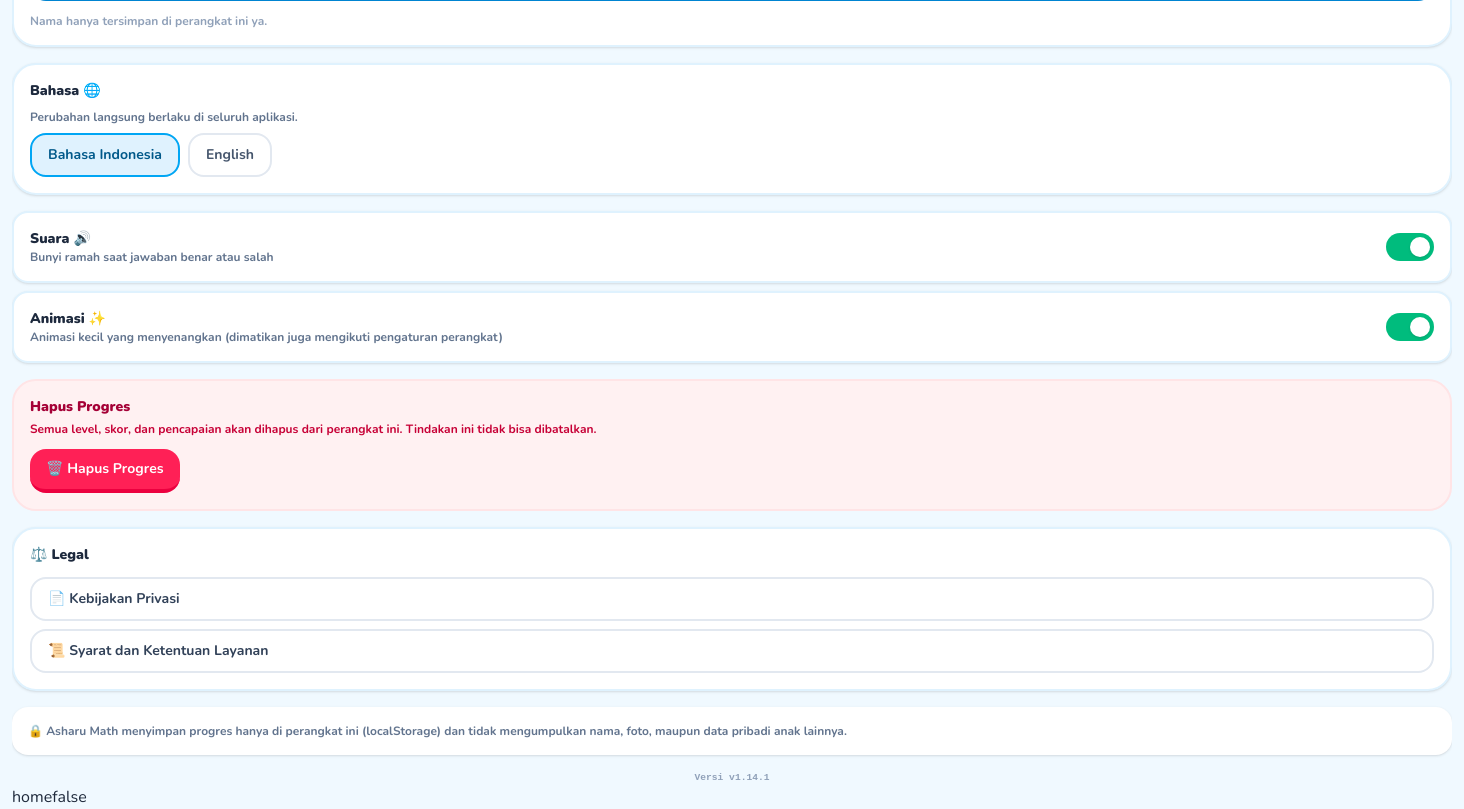
it: Navigasi ke dokumen legal dari Pengaturan › tombol terms mendorong layar terms
The image size is (1464, 809).
(page scrolled)
Click the button "📜 Syarat dan Ketentuan Layanan": (169, 650) [30,629,1434,673]
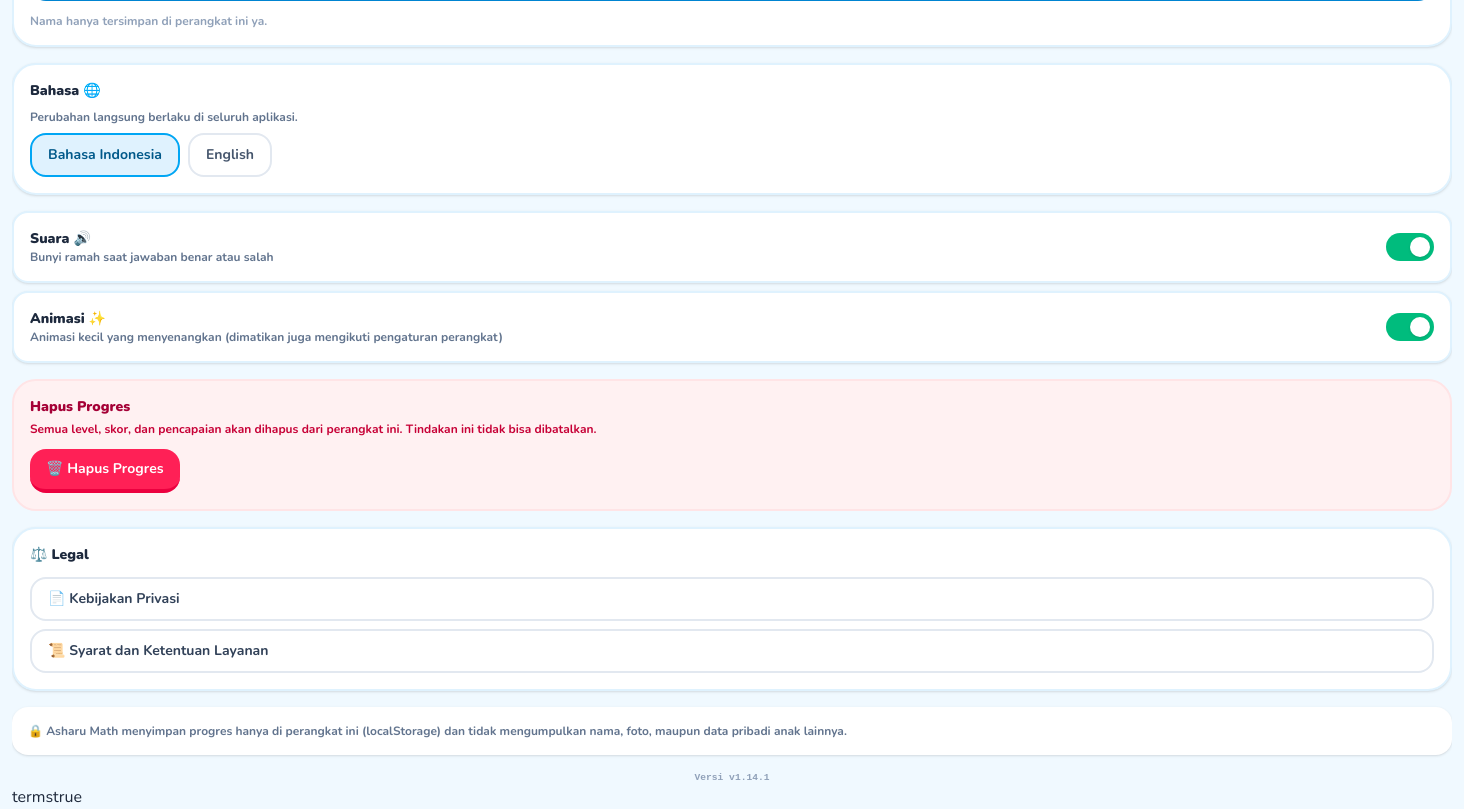
Expected: the text with test id "probe-screen" reads "terms", [12,786,53,808]
